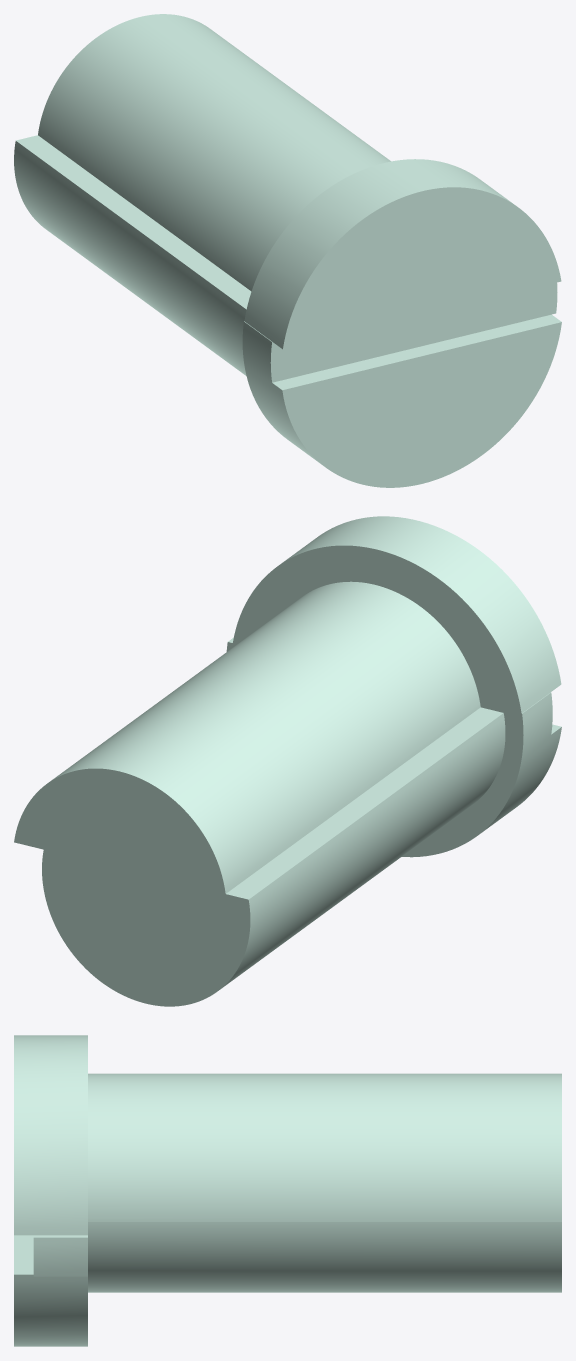
The picture shows the model from 3 angles, top to bottom: view 1: azimuth 30°, elevation 25°; view 2: azimuth 150°, elevation 25°; view 3: azimuth 270°, elevation 25°; orthographic projection. The views are drawn at different scales.
Visible parts, largest first — view 1: Renderer Node; view 2: Renderer Node; view 3: Renderer Node.
Part boxes in pixels (x1,y1,x2,y2): Renderer Node: (14,14,561,487); Renderer Node: (14,516,561,1006); Renderer Node: (14,1035,561,1346).
Size of the model in its own units: 0.5046 by 0.4923 by 0.8672.
